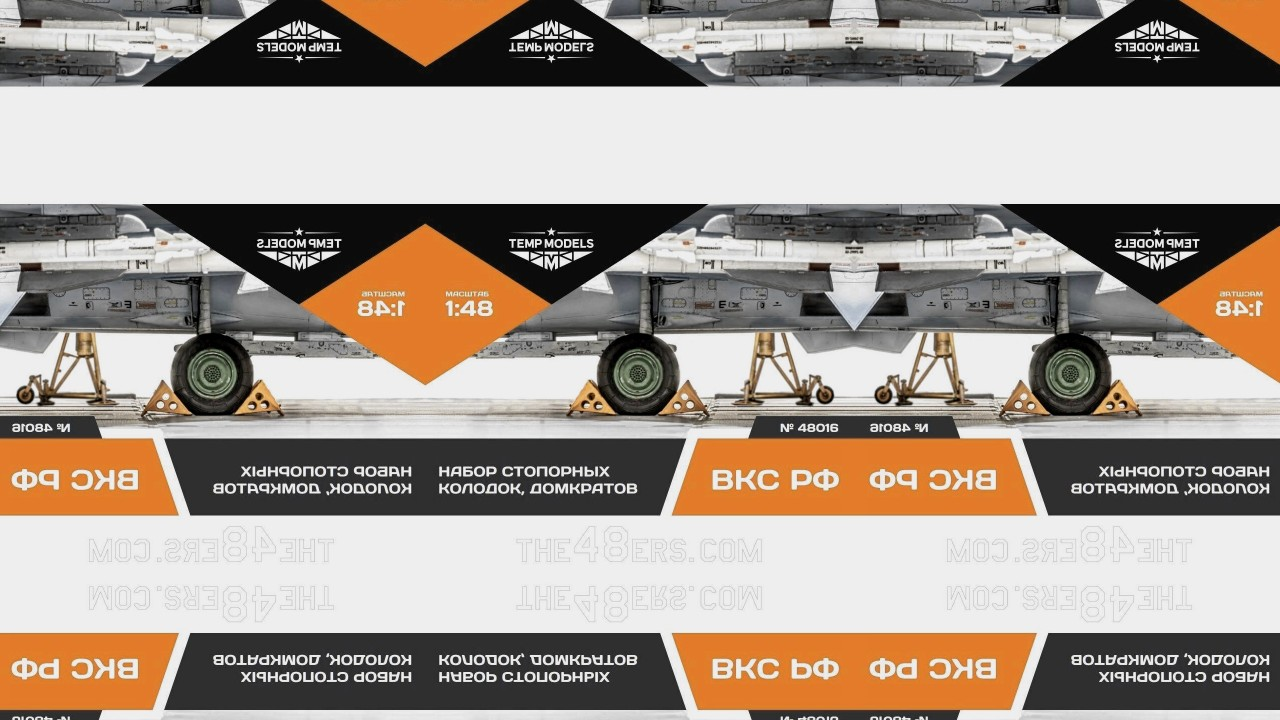chock: (141, 380, 193, 417), (657, 380, 709, 417), (1000, 380, 1052, 417), (233, 380, 284, 416), (1092, 380, 1143, 416), (566, 380, 616, 416)
wheel: (170, 331, 254, 413), (596, 331, 679, 413), (1030, 331, 1113, 413), (16, 384, 35, 403), (815, 384, 833, 403), (876, 384, 894, 403)
